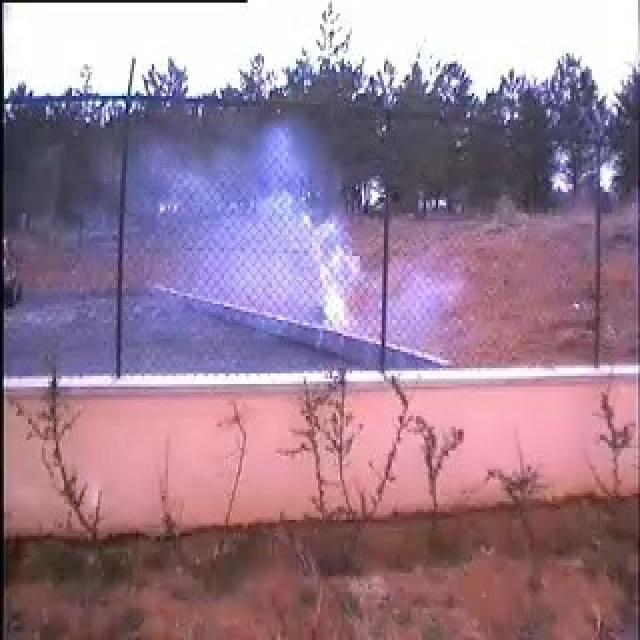Smoke: (113, 130, 380, 368)
